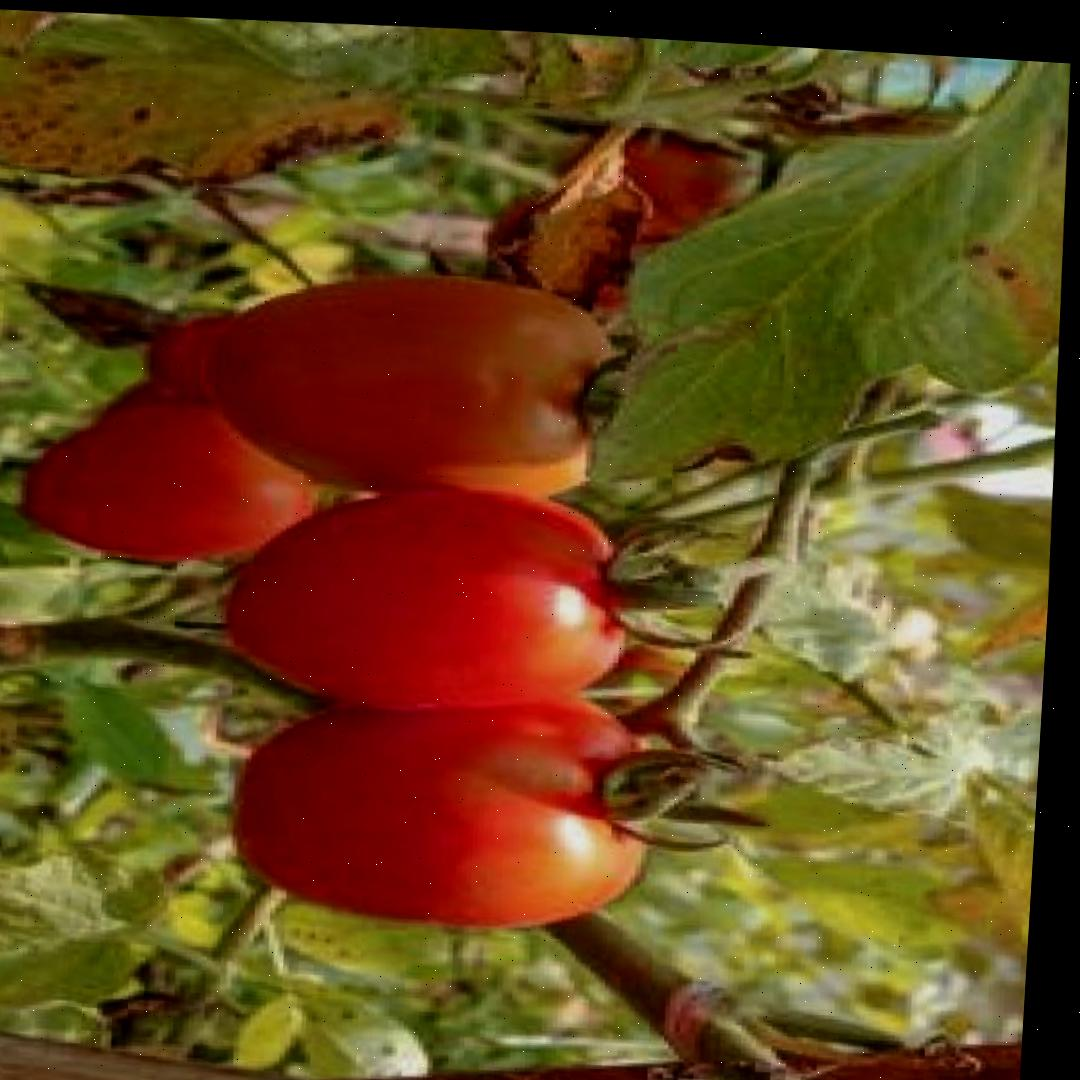matang: (225, 669, 666, 944), (222, 468, 638, 724)
setengah_matang: (200, 253, 643, 513)
